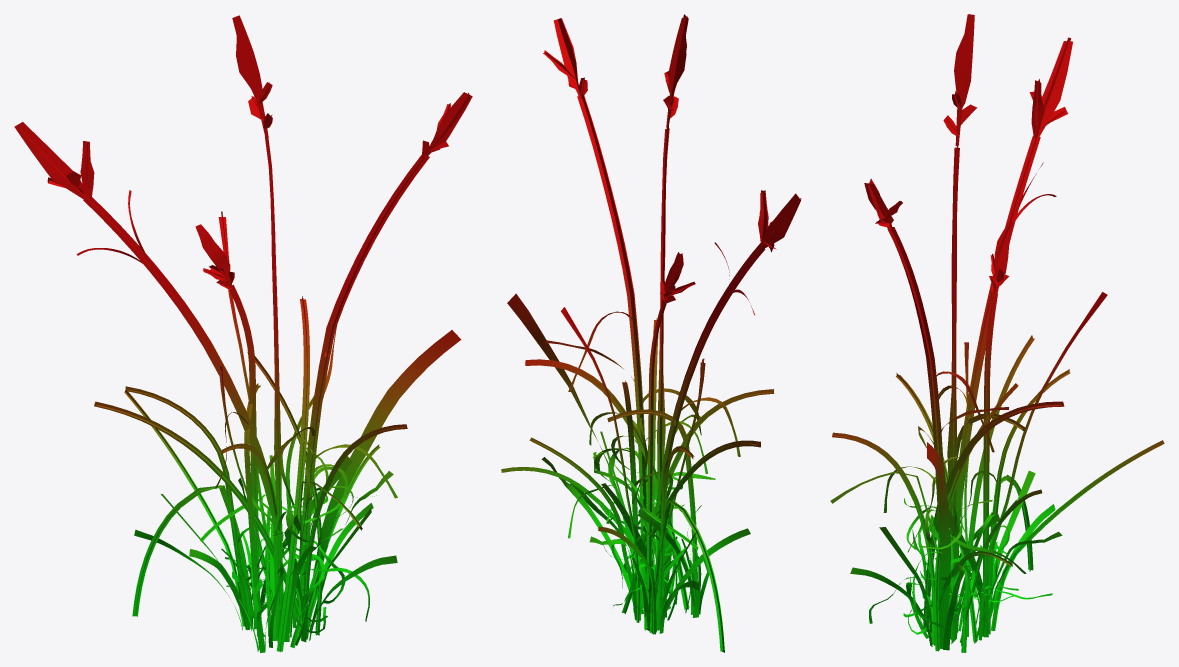
File: tcfoejcr_Var2_LOD0.fbx
3 renders of one model, left to right at view 1: azimuth 30°, elevation 25°; view 2: azimuth 150°, elevation 25°; view 3: azimuth 270°, elevation 25°, orthographic. The views are drawn at different scales.
Parts seen in each view (by area): view 1: _6ba5_Var2_LOD0; view 2: _6ba5_Var2_LOD0; view 3: _6ba5_Var2_LOD0.
Boxes of the visible parts, x1=… form: _6ba5_Var2_LOD0: x1=14, y1=15, x2=472, y2=652; _6ba5_Var2_LOD0: x1=501, y1=14, x2=801, y2=652; _6ba5_Var2_LOD0: x1=830, y1=14, x2=1164, y2=652.
Bounding box in the file's own units: 93.01 × 150 × 74.22.
